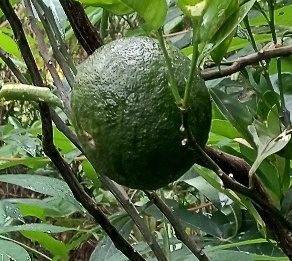Cam: (67, 35, 213, 192)
